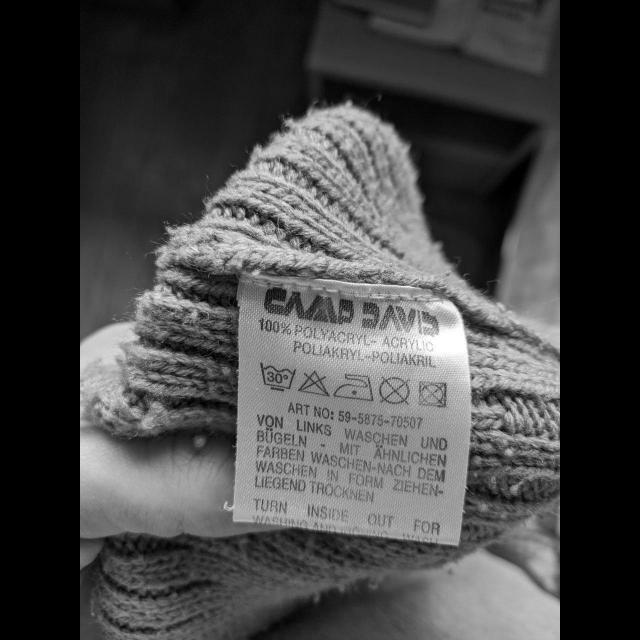30C: (258, 360, 298, 394)
DN_bleach: (296, 368, 332, 398)
DN_dry_clean: (376, 375, 412, 407)
DN_tumble_dry: (415, 378, 449, 412)
iron_low: (332, 371, 376, 404)
